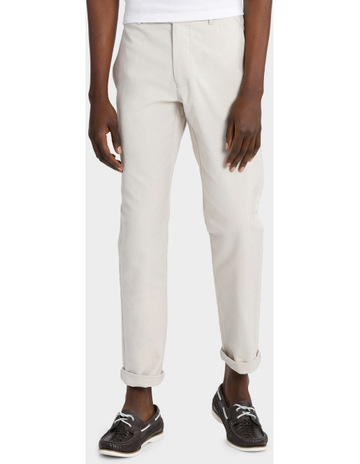feet: (89, 333, 275, 456)
